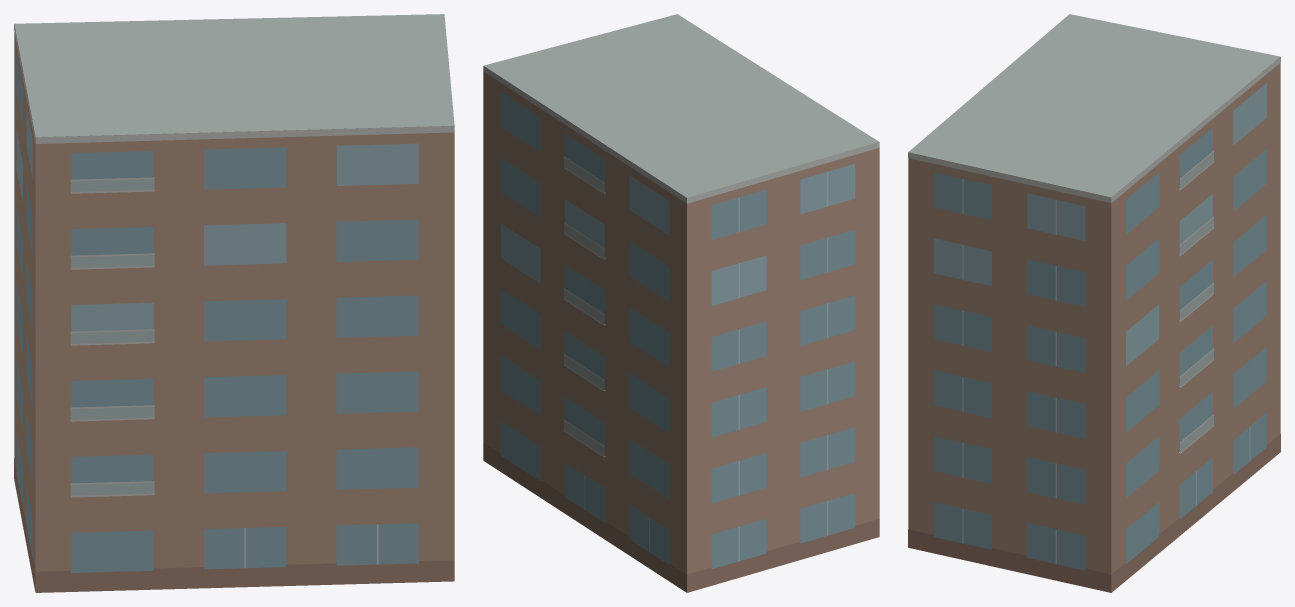
Rendered from survey-upis-32886156.glb.
3 views of the same model, side by side, from view 1: azimuth 30°, elevation 25°; view 2: azimuth 150°, elevation 25°; view 3: azimuth 270°, elevation 25° (orthographic). The views are drawn at different scales.
Parts seen in each view (by area): view 1: survey-upis-32886156.tmp; view 2: survey-upis-32886156.tmp; view 3: survey-upis-32886156.tmp.
Part boxes in pixels (<box>): survey-upis-32886156.tmp: <box>14,14,454,592</box>; survey-upis-32886156.tmp: <box>483,14,879,592</box>; survey-upis-32886156.tmp: <box>908,14,1280,592</box>.
Size of the model in its own units: 16.52 by 16.6 by 14.19.
